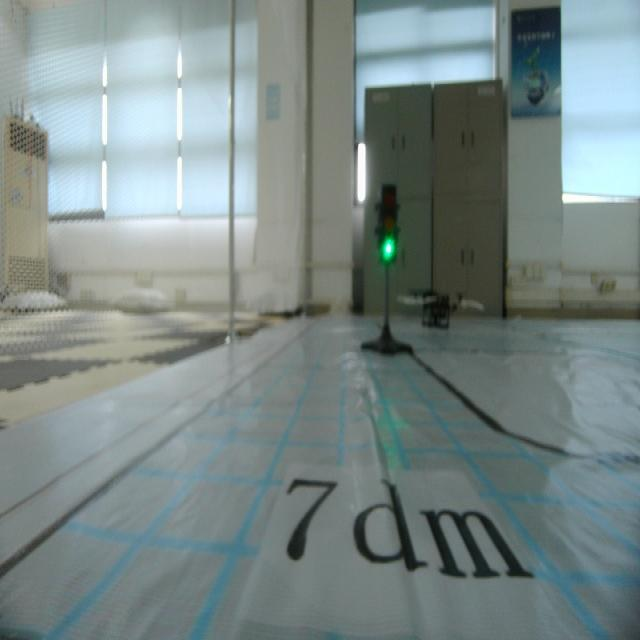green: (377, 185, 399, 267)
